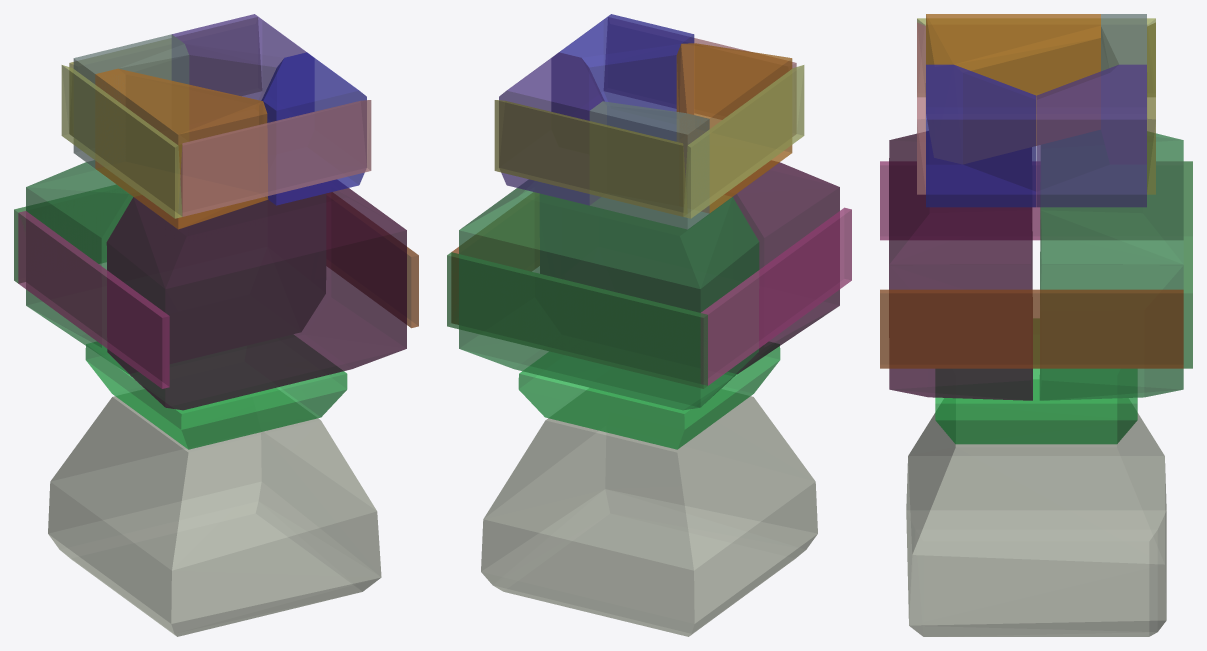
3 renders of one model, left to right at view 1: azimuth 30°, elevation 25°; view 2: azimuth 150°, elevation 25°; view 3: azimuth 270°, elevation 25°, orthographic. The views are drawn at different scales.
Parts seen in each view (by area): view 1: Shape_IndexedFaceSet, Shape_IndexedFaceSet.009, Shape_IndexedFaceSet.008, Shape_IndexedFaceSet.011, Shape_IndexedFaceSet.001, Shape_IndexedFaceSet.004, Shape_IndexedFaceSet.012, Shape_IndexedFaceSet.013, Shape_IndexedFaceSet.007, Shape_IndexedFaceSet.010, Shape_IndexedFaceSet.002, Shape_IndexedFaceSet.006 (+2 smaller); view 2: Shape_IndexedFaceSet, Shape_IndexedFaceSet.008, Shape_IndexedFaceSet.009, Shape_IndexedFaceSet.003, Shape_IndexedFaceSet.011, Shape_IndexedFaceSet.006, Shape_IndexedFaceSet.001, Shape_IndexedFaceSet.013, Shape_IndexedFaceSet.012, Shape_IndexedFaceSet.007, Shape_IndexedFaceSet.010, Shape_IndexedFaceSet.004 (+2 smaller); view 3: Shape_IndexedFaceSet, Shape_IndexedFaceSet.008, Shape_IndexedFaceSet.009, Shape_IndexedFaceSet.005, Shape_IndexedFaceSet.011, Shape_IndexedFaceSet.001, Shape_IndexedFaceSet.013, Shape_IndexedFaceSet.012, Shape_IndexedFaceSet.002, Shape_IndexedFaceSet.007, Shape_IndexedFaceSet.010, Shape_IndexedFaceSet.003 (+2 smaller).
Boxes of the visible parts, x1,y1,x2,y2 form: Shape_IndexedFaceSet: (48, 388, 381, 636); Shape_IndexedFaceSet.009: (106, 180, 406, 410); Shape_IndexedFaceSet.008: (26, 145, 325, 374); Shape_IndexedFaceSet.011: (95, 68, 268, 229); Shape_IndexedFaceSet.001: (85, 335, 347, 449); Shape_IndexedFaceSet.004: (179, 100, 371, 216); Shape_IndexedFaceSet.012: (172, 14, 313, 140); Shape_IndexedFaceSet.013: (259, 52, 366, 205); Shape_IndexedFaceSet.007: (18, 211, 169, 388); Shape_IndexedFaceSet.010: (73, 34, 189, 168); Shape_IndexedFaceSet.002: (61, 65, 182, 218); Shape_IndexedFaceSet.006: (69, 17, 261, 135); Shape_IndexedFaceSet: (481, 388, 817, 636); Shape_IndexedFaceSet.008: (459, 180, 759, 410); Shape_IndexedFaceSet.009: (540, 161, 839, 374); Shape_IndexedFaceSet.003: (447, 252, 707, 388); Shape_IndexedFaceSet.011: (676, 43, 792, 213); Shape_IndexedFaceSet.006: (494, 100, 686, 216); Shape_IndexedFaceSet.001: (518, 342, 780, 449); Shape_IndexedFaceSet.013: (552, 14, 694, 140); Shape_IndexedFaceSet.012: (499, 52, 606, 205); Shape_IndexedFaceSet.007: (701, 207, 851, 385); Shape_IndexedFaceSet.010: (589, 101, 709, 229); Shape_IndexedFaceSet.004: (604, 17, 796, 135); Shape_IndexedFaceSet: (906, 380, 1166, 636); Shape_IndexedFaceSet.008: (1039, 130, 1183, 400); Shape_IndexedFaceSet.009: (889, 131, 1032, 400); Shape_IndexedFaceSet.005: (880, 289, 1183, 368); Shape_IndexedFaceSet.011: (926, 14, 1100, 163); Shape_IndexedFaceSet.001: (935, 319, 1137, 444); Shape_IndexedFaceSet.013: (926, 64, 1036, 207); Shape_IndexedFaceSet.012: (1036, 64, 1146, 207); Shape_IndexedFaceSet.002: (917, 18, 1155, 96); Shape_IndexedFaceSet.007: (880, 161, 1182, 240); Shape_IndexedFaceSet.010: (1101, 14, 1146, 163); Shape_IndexedFaceSet.003: (1183, 161, 1192, 368).
Bounding box in the file's own units: 0.4336 × 0.8084 × 0.4336.
